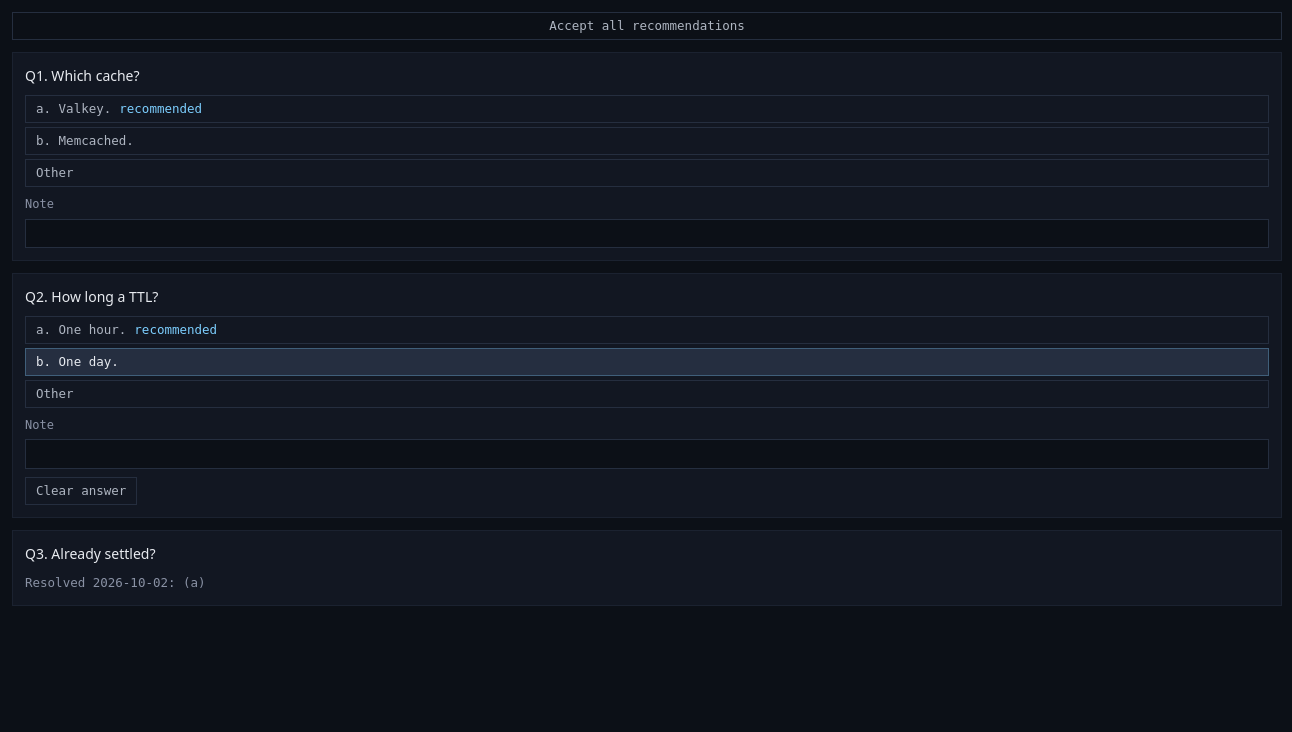
Scenario: QuestionCards › accepts every recommendation only for unanswered questions
Click the button "Accept all recommendations" at (647, 26), box top-left (12, 12), bottom-right (1282, 40)
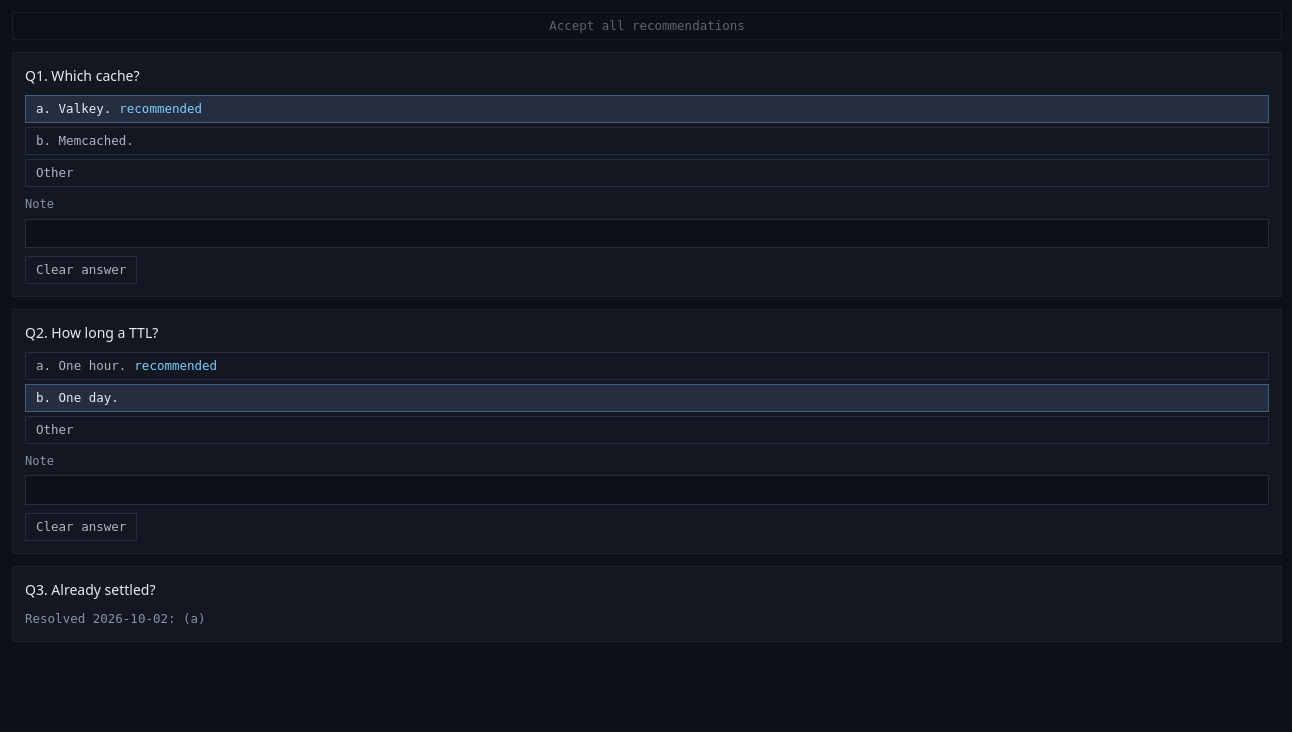
Check: the button "Accept all recommendations" is disabled, box top-left (12, 12), bottom-right (1282, 40)
